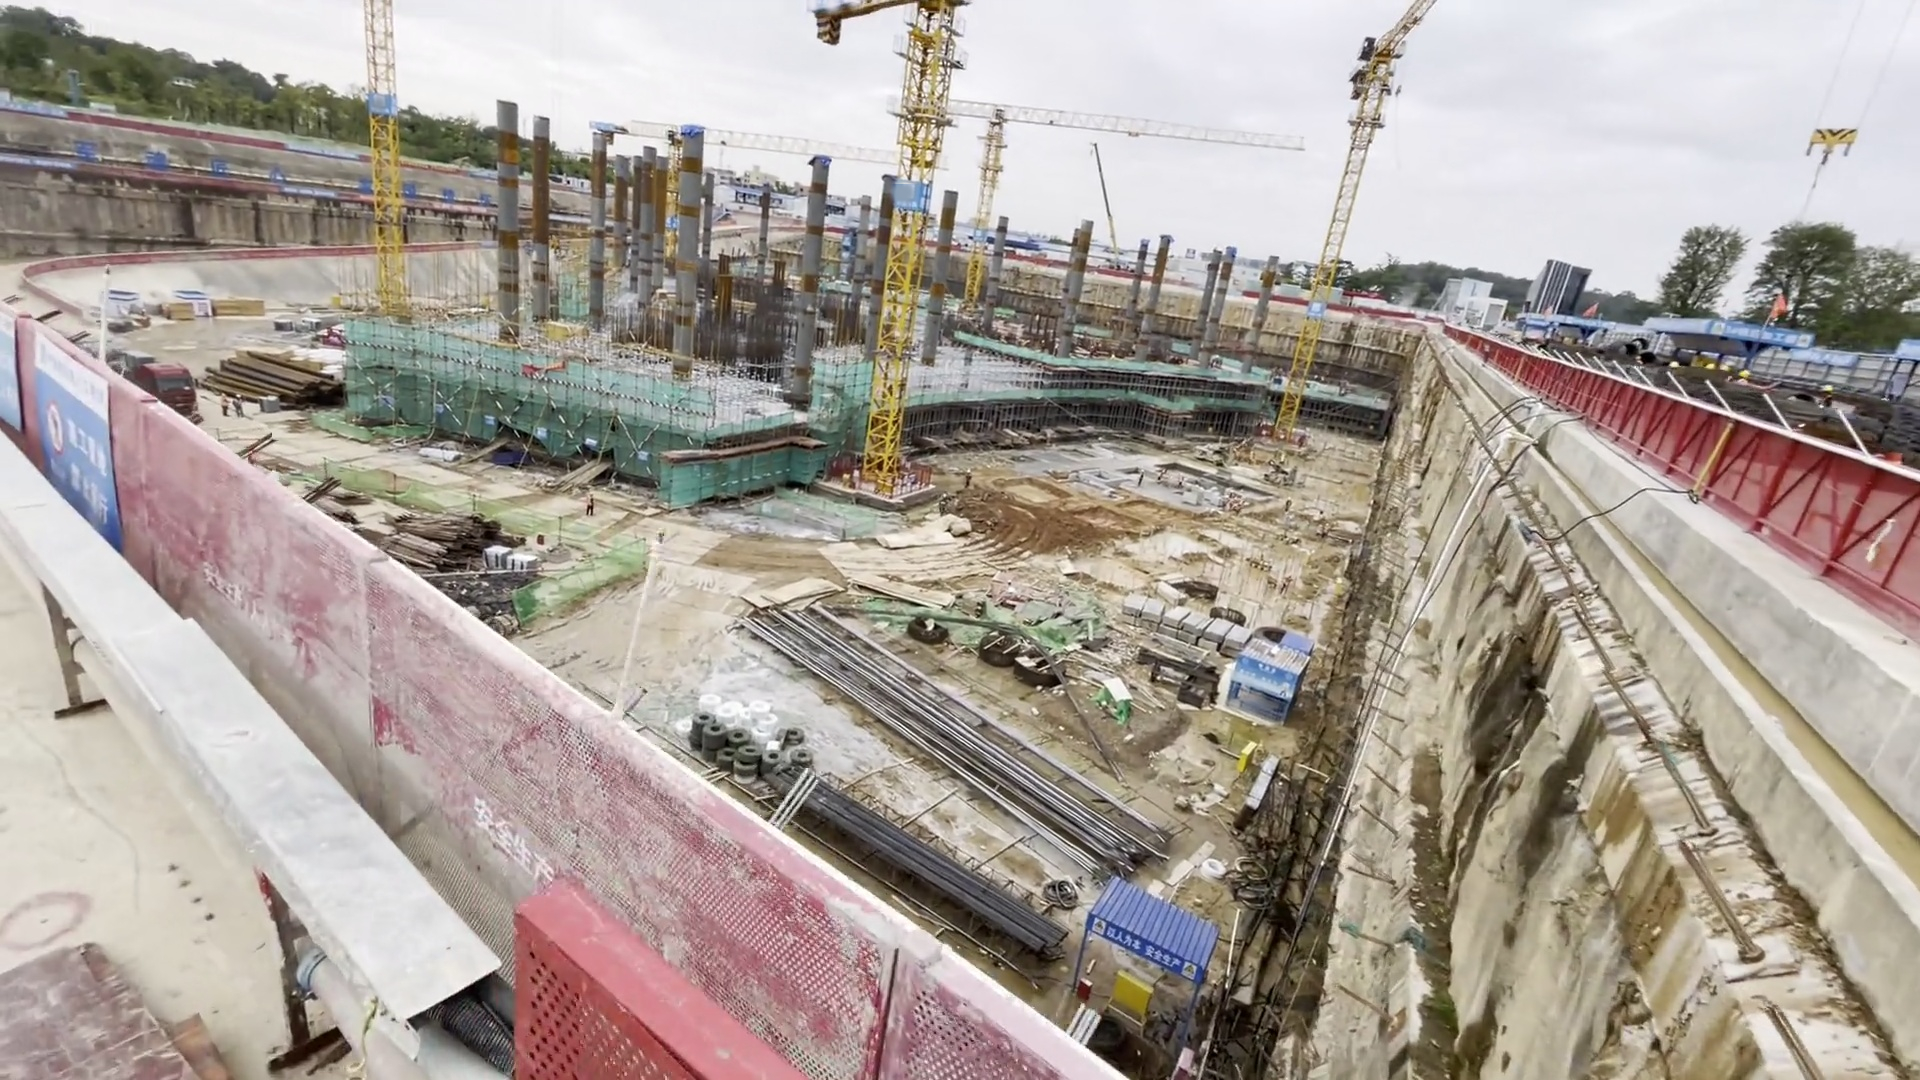brick: (1115, 599, 1258, 663), (484, 544, 537, 584)
ebox: (873, 479, 894, 504)
fence: (198, 504, 809, 1033), (1610, 401, 1920, 580)
helmet: (1667, 358, 1682, 371), (1818, 383, 1836, 394), (1737, 366, 1753, 379), (1703, 363, 1718, 370), (235, 392, 243, 398), (589, 492, 595, 496)
hook: (1802, 123, 1862, 165)
hopper: (495, 447, 530, 467)
person: (232, 392, 251, 422), (582, 488, 597, 519), (216, 390, 231, 414), (962, 465, 974, 488), (1136, 466, 1146, 489)
rebar: (815, 787, 1061, 953)
slogan: (37, 369, 141, 536), (451, 781, 555, 892), (69, 138, 283, 185), (1093, 919, 1189, 961)
vest: (586, 496, 592, 505)
wood: (401, 511, 484, 567)
